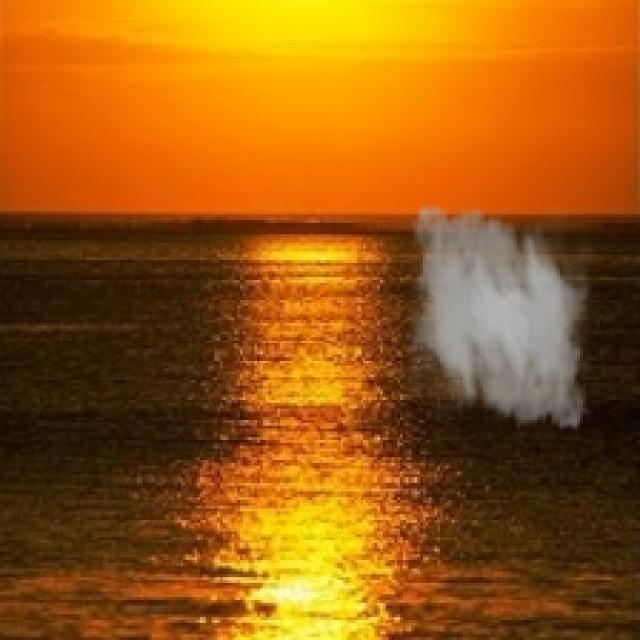Smoke: (394, 194, 600, 440)
